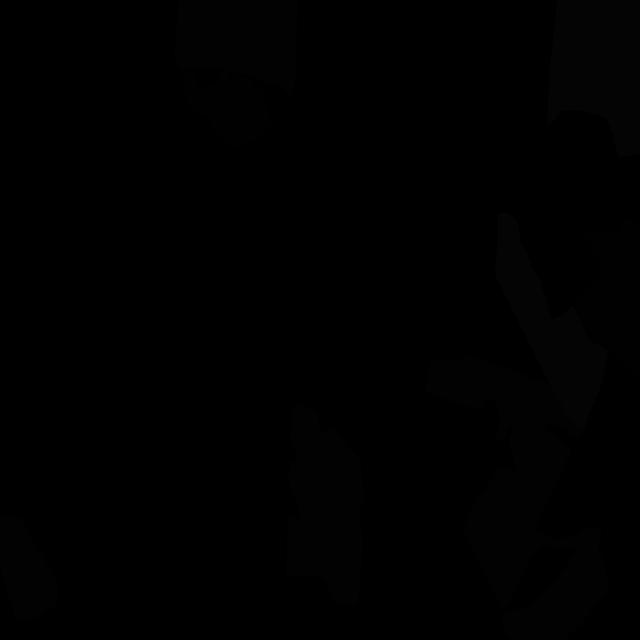cardboard: (462, 426, 609, 640), (286, 403, 366, 607), (425, 355, 584, 439), (174, 0, 298, 96), (0, 516, 58, 621)
rigid_plastic: (574, 217, 640, 380), (180, 68, 271, 151)
soft_plastic: (494, 212, 608, 429), (547, 0, 640, 157)
